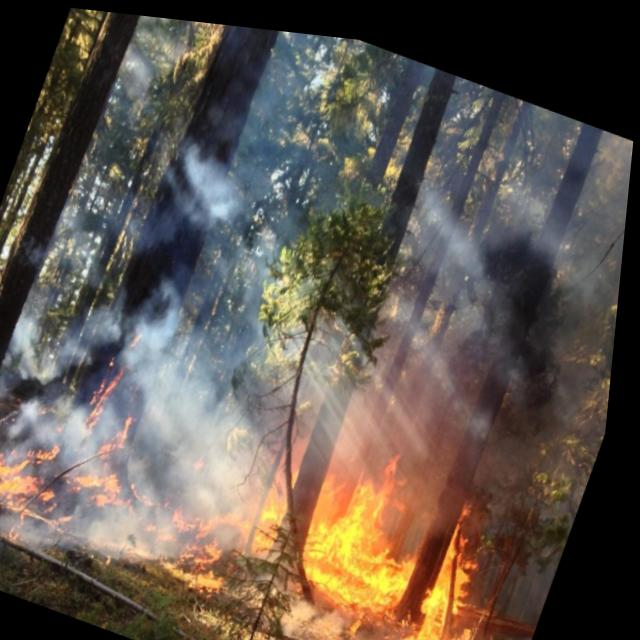Fire: (177, 377, 588, 640), (0, 273, 249, 615)
